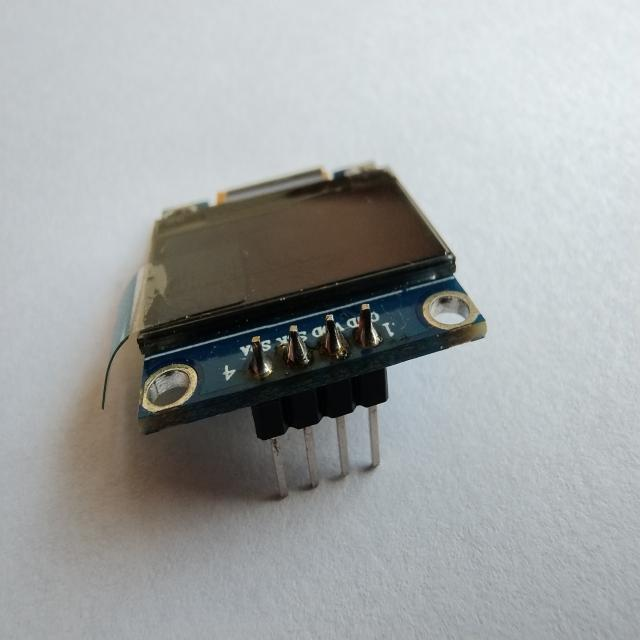oled: (113, 146, 498, 524)
